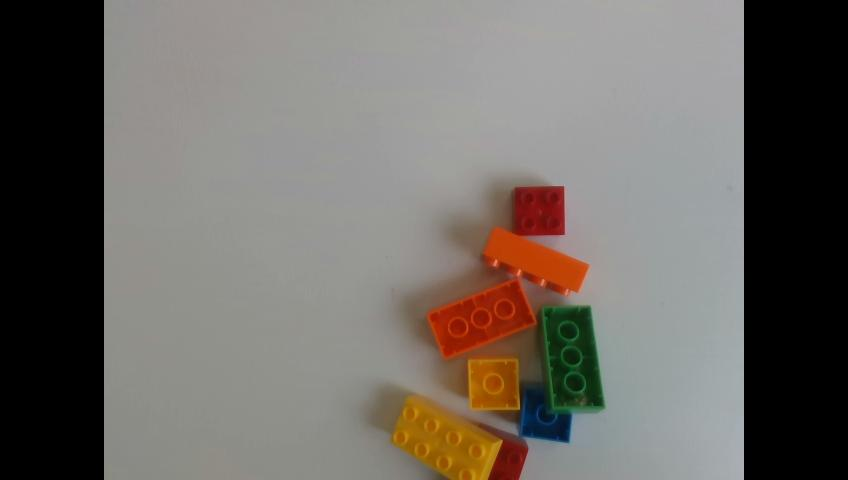2x2_blue: (520, 383, 572, 445)
2x2_red: (477, 423, 531, 480), (512, 186, 567, 235)
2x2_yellow: (469, 353, 521, 410)
4x2_green: (538, 303, 606, 415)
4x2_orange: (427, 278, 537, 359), (481, 225, 591, 297)
4x2_yellow: (389, 394, 505, 480)
